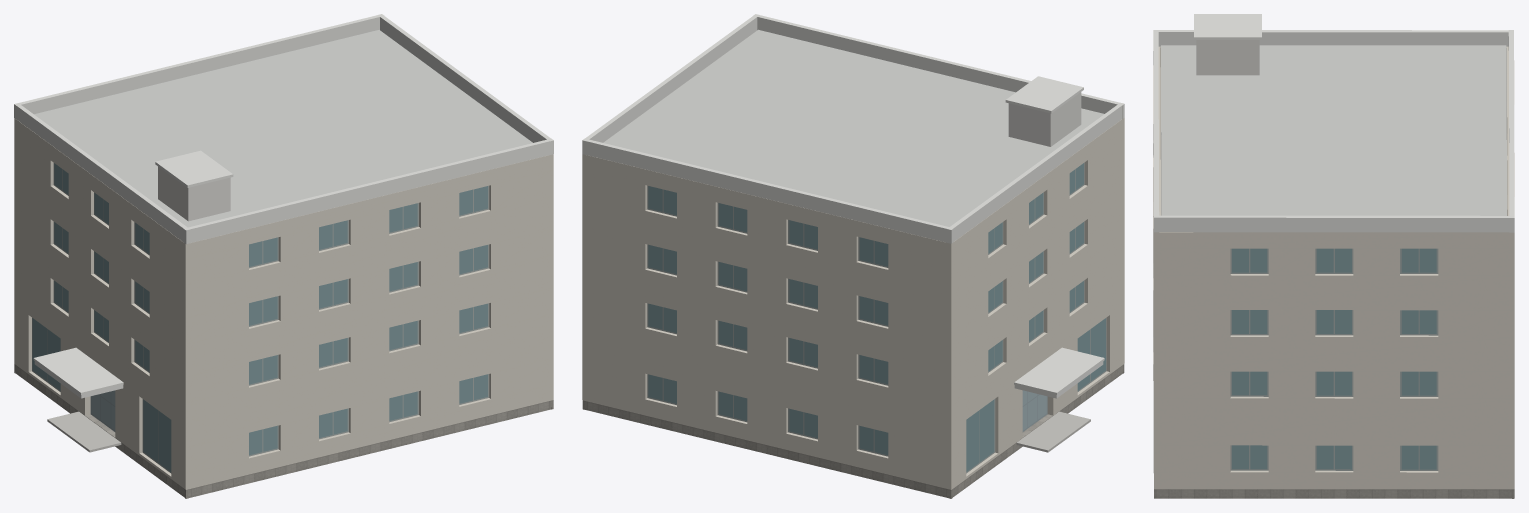
The picture shows the model from 3 angles, left to right: view 1: azimuth 30°, elevation 25°; view 2: azimuth 150°, elevation 25°; view 3: azimuth 270°, elevation 25°; orthographic projection. The views are drawn at different scales.
Visible parts, largest first — view 1: student-annex__wall, student-annex__roof, student-annex__cap, student-annex__glass, student-annex__plinth, student-annex__frame, student-annex__core, student-annex__threshold-main, student-annex__foundation, student-annex__doorglass; view 2: student-annex__wall, student-annex__roof, student-annex__cap, student-annex__glass, student-annex__plinth, student-annex__frame, student-annex__core, student-annex__threshold-main, student-annex__foundation, student-annex__doorglass; view 3: student-annex__wall, student-annex__roof, student-annex__cap, student-annex__glass, student-annex__plinth, student-annex__frame, student-annex__core, student-annex__foundation.
Part boxes in pixels (x1,y1,x2,y2): student-annex__wall: [14, 118, 553, 489]; student-annex__roof: [34, 30, 532, 227]; student-annex__cap: [14, 14, 553, 394]; student-annex__glass: [32, 163, 487, 471]; student-annex__plinth: [14, 364, 553, 496]; student-annex__frame: [32, 163, 489, 473]; student-annex__core: [158, 166, 230, 221]; student-annex__threshold-main: [47, 411, 121, 452]; student-annex__foundation: [14, 371, 553, 498]; student-annex__doorglass: [91, 390, 115, 430]; student-annex__wall: [582, 118, 1124, 489]; student-annex__roof: [603, 29, 1104, 226]; student-annex__cap: [582, 14, 1124, 394]; student-annex__glass: [648, 163, 1105, 471]; student-annex__plinth: [582, 364, 1124, 496]; student-annex__frame: [647, 162, 1106, 473]; student-annex__core: [1008, 92, 1081, 146]; student-annex__threshold-main: [1016, 411, 1090, 452]; student-annex__foundation: [582, 365, 1124, 498]; student-annex__doorglass: [1022, 390, 1046, 430]; student-annex__wall: [1153, 46, 1514, 489]; student-annex__roof: [1161, 45, 1506, 215]; student-annex__cap: [1153, 14, 1514, 232]; student-annex__glass: [1232, 248, 1436, 469]; student-annex__plinth: [1154, 489, 1514, 496]; student-annex__frame: [1230, 248, 1438, 470]; student-annex__core: [1196, 40, 1259, 75]; student-annex__foundation: [1154, 490, 1514, 498].
Size of the model in its own units: 23.44 by 16.02 by 17.06.
Materials: 12 (3 with a texture image).
